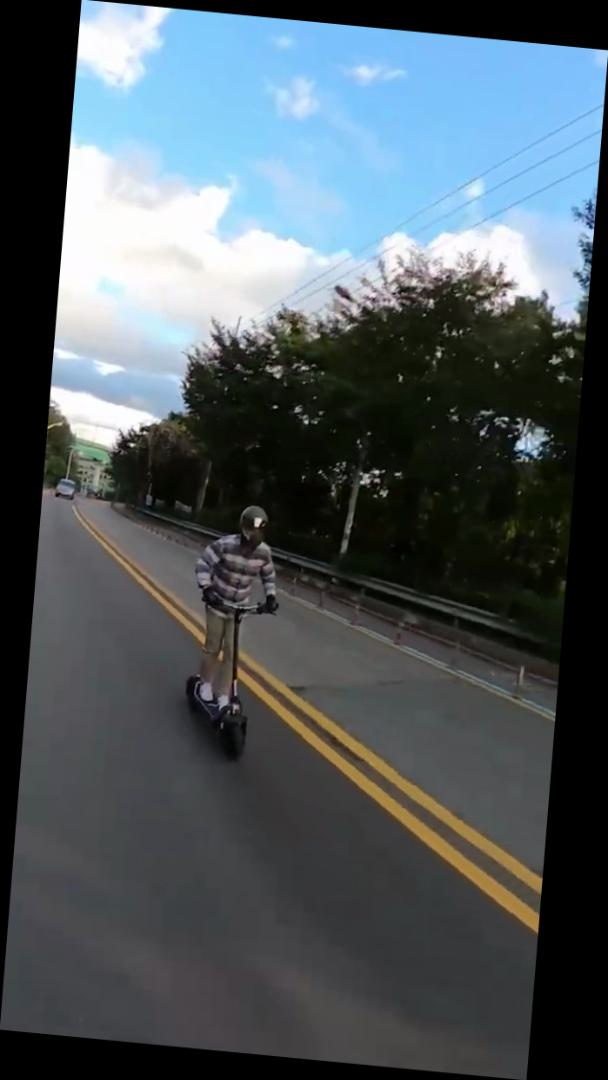helmet: (177, 496, 291, 770)
